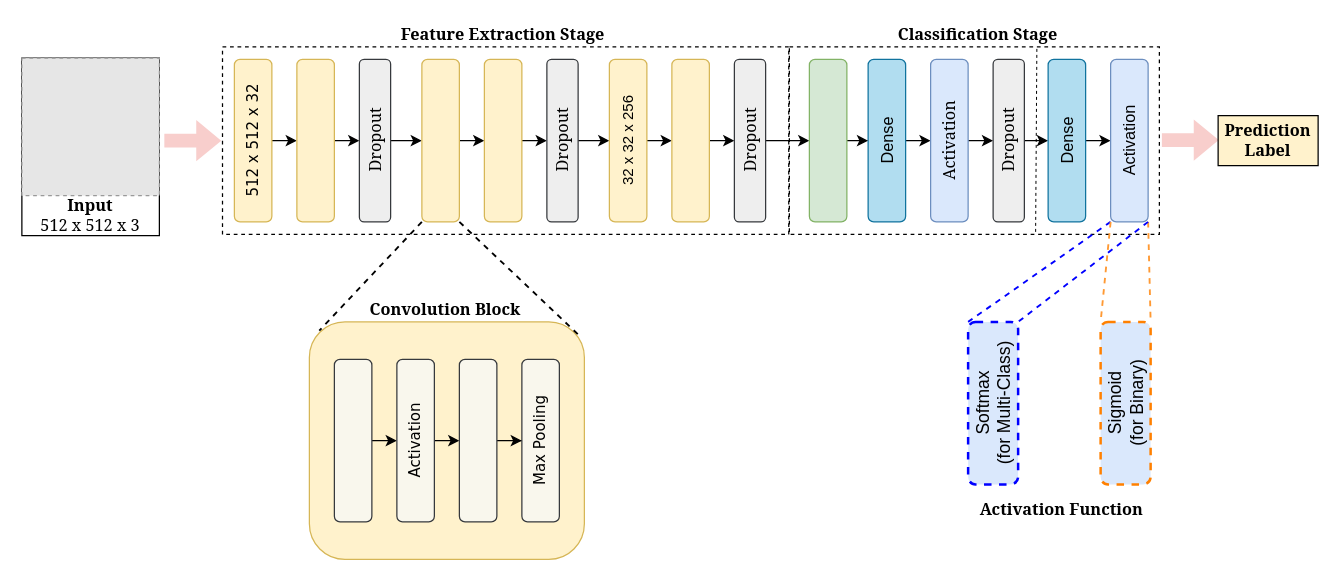
Some shapes in this 1340 by 581 pixel diagram are drawn without their labels. Grey dashed boxes stand in for pictures. The box of each missing label's shape, as (x1, y1, x2, y2) in pixels:
128 x 128 x 128: (421, 58, 459, 222)
16 x 16 x 256: (671, 58, 709, 222)
256 x 256 x 64: (296, 58, 334, 222)
64 x 64 x 128: (483, 58, 522, 222)
Batch Normalization: (458, 358, 497, 522)
Flatten (65536, ): (808, 58, 847, 222)
Separable Convolution: (333, 358, 372, 522)
